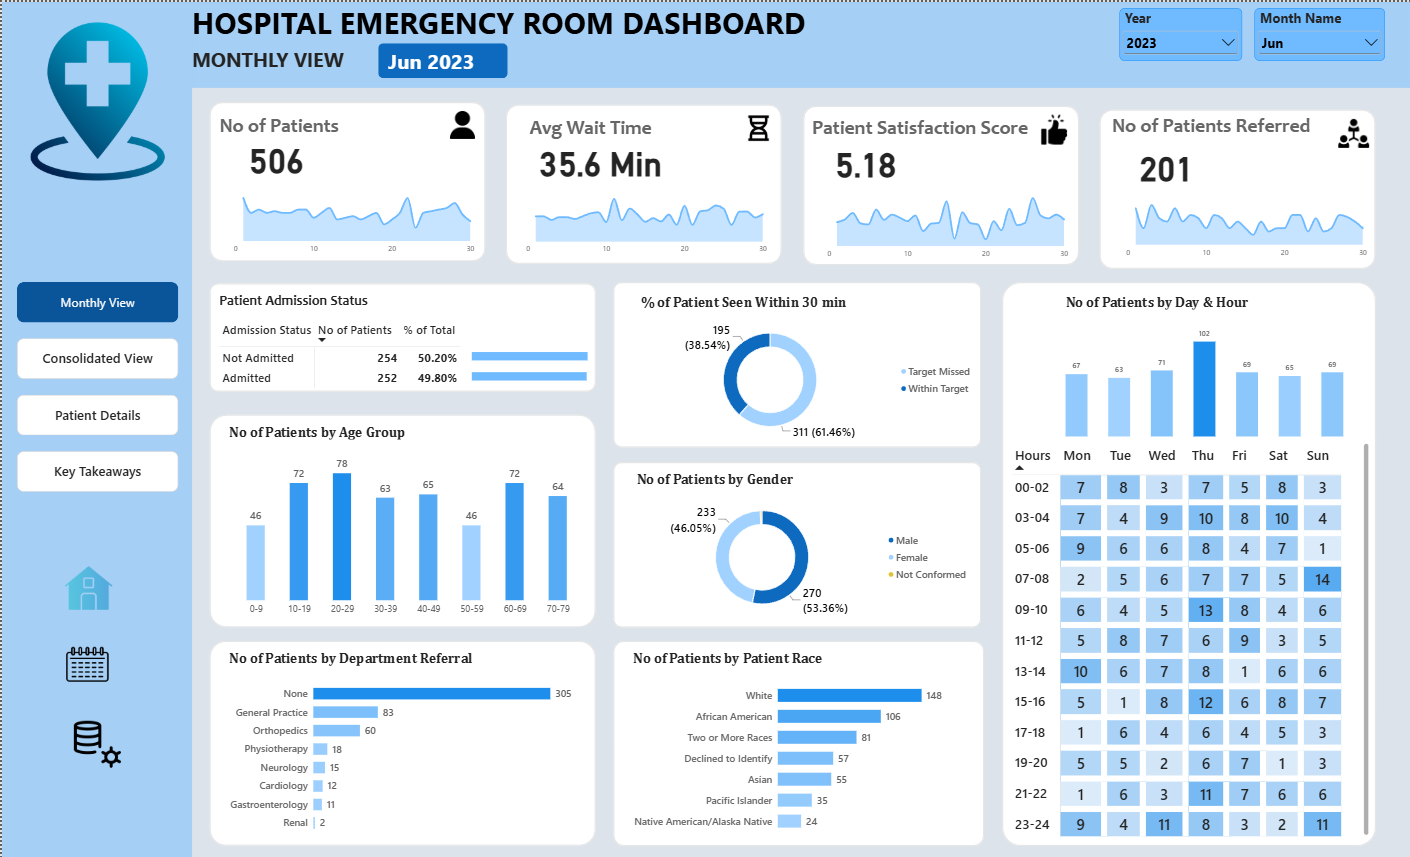

The dashboard page shown, as its layout file describes it:
{"tool":"powerbi","page":{"name":"Monthly View","canvas":[2300,1400],"ordinal":0},"visuals":[{"type":"shape","box":[0,0,310,1400.4],"z":0},{"type":"shape","box":[338.1,162.3,450,260],"z":1000},{"type":"shape","box":[310,0,1989.6,140],"z":2000},{"type":"textbox","box":[310,0,1031.1,66],"z":3000},{"type":"textbox","box":[310,70.4,288,50.6],"z":4000},{"type":"cardVisual","fields":{"Data":["Hospital ER_Data.No of Patients"]},"box":[385.8,195,183,127],"z":5000},{"type":"slicer","fields":{"Values":["Date Table.Year"]},"box":[1822.5,10.4,199.6,85.6],"z":6000},{"type":"slicer","fields":{"Values":["Date Table.Month Name"]},"box":[2042.9,10.4,212.6,85.6],"z":7000},{"type":"textbox","box":[355.6,181.9,288,50.6],"z":8000},{"type":"areaChart","fields":{"Category":["Date Table.Date.Variation.Date Hierarchy.Day"],"Y":["Hospital ER_Data.No of Patients"]},"box":[355.6,285.1,435,145],"z":9000},{"type":"image","box":[0,33.2,312.7,259.2],"z":10000},{"type":"cardVisual","fields":{"Data":["Min(Date Table.Month & Year)"]},"box":[613.6,67.9,211.8,57],"z":11000},{"type":"shape","box":[822.1,167.9,450,260],"z":12000},{"type":"cardVisual","fields":{"Data":["Hospital ER_Data.Avg Wait Time"]},"box":[859.6,200.1,290.2,127.5],"z":13000},{"type":"textbox","box":[860.6,184.6,288,50.6],"z":14000},{"type":"areaChart","fields":{"Category":["Date Table.Date.Variation.Date Hierarchy.Day"],"Y":["Avg(Hospital ER_Data.Patient Waittime)"]},"box":[830.7,285.1,435,145],"z":15000},{"type":"shape","box":[1306.1,170.1,450,260],"z":16000},{"type":"cardVisual","fields":{"Data":["Hospital ER_Data.Satisfaction Score"]},"box":[1340.3,202.2,191.8,127],"z":17000},{"type":"textbox","box":[1321.3,184.7,371.5,48.4],"z":18000},{"type":"areaChart","fields":{"Category":["Date Table.Date.Variation.Date Hierarchy.Day"],"Y":["Hospital ER_Data.Satisfaction Score"]},"box":[1322.1,293.2,435,145],"z":19000},{"type":"shape","box":[1790.2,174.5,450,260],"z":20000},{"type":"cardVisual","fields":{"Data":["Hospital ER_Data.No of Patients Referred"]},"box":[1837.9,207.1,183,127],"z":21000},{"type":"textbox","box":[1809.5,181.5,396.6,38.9],"z":22000},{"type":"areaChart","fields":{"Category":["Date Table.Date.Variation.Date Hierarchy.Day"],"Y":["Hospital ER_Data.No of Patients Referred"]},"box":[1810.8,290.5,435,145],"z":23000},{"type":"shape","box":[337.7,457.7,630,177],"z":24000},{"type":"pivotTable","title":"Patient Admission Status","fields":{"Rows":["Hospital ER_Data.Admission Status"],"Values":["Hospital ER_Data.No of Patients1","Hospital ER_Data.No of Patients"]},"box":[337.7,457.7,613.9,195.3],"z":25000},{"type":"barChart","fields":{"Category":["Hospital ER_Data.Admission Status"],"Y":["Hospital ER_Data.No of Patients"]},"box":[750,532.5,255,120],"z":26000},{"type":"shape","box":[337.5,672.5,630,347.5],"z":27000},{"type":"clusteredColumnChart","fields":{"Category":["Hospital ER_Data.Age Group"],"Y":["Hospital ER_Data.No of Patients"]},"box":[355,672.5,612.5,347.5],"z":28000},{"type":"shape","box":[337.5,1042.5,630,334.4],"z":29000},{"type":"clusteredBarChart","fields":{"Category":["Hospital ER_Data.Department Referral"],"Y":["Hospital ER_Data.No of Patients"]},"box":[355,1042.5,612.5,335],"z":30000},{"type":"image","box":[90.1,1042.1,98.9,76.9],"z":31000},{"type":"image","box":[91.7,1170.1,98.9,76.9],"z":32000},{"type":"image","box":[92.3,916.8,98.9,76.9],"z":34000},{"type":"shape","box":[996.8,457.1,600,270],"z":35000},{"type":"donutChart","title":"% of Patient Seen Within 30 min","fields":{"Category":["Hospital ER_Data.Waittime Status"],"Y":["Hospital ER_Data.No of Patients"]},"box":[1024.8,460.5,578.4,269.5],"z":36000},{"type":"shape","box":[996.8,750.8,600,270],"z":37000},{"type":"donutChart","title":"No of Patients by Gender","fields":{"Category":["Hospital ER_Data.Patient Gender"],"Y":["Hospital ER_Data.No of Patients"]},"box":[1019.6,751.1,578.4,269.5],"z":38000},{"type":"shape","box":[997.5,1042.5,605,335],"z":39000},{"type":"clusteredBarChart","fields":{"Category":["Hospital ER_Data.Patient Race"],"Y":["Hospital ER_Data.No of Patients"]},"box":[1012.5,1042.5,585,335],"z":40000},{"type":"shape","box":[1630,457.5,610,920],"z":41000},{"type":"pivotTable","fields":{"Columns":["Date Table.Day Name"],"Rows":["Hospital ER_Data.Waittime Interval"],"Values":["Hospital ER_Data.No of Patients"]},"box":[1630.7,705.1,614.4,671.4],"z":42000},{"type":"columnChart","title":"No of Patients by Day & Hour","fields":{"Category":["Date Table.Day Name"],"Y":["Hospital ER_Data.No of Patients"]},"box":[1718.8,461.5,487.4,264.4],"z":43000},{"type":"image","box":[727.7,175.9,46.2,50.6],"z":44000},{"type":"image","box":[1200.4,178.1,66,57.2],"z":45000},{"type":"image","box":[1692.8,178.1,48.4,61.6],"z":46000},{"type":"image","box":[2178.7,182.5,50.6,61.6],"z":47000},{"type":"pageNavigator","box":[24.2,457.3,263.8,342.5],"z":48000}]}

Visuals, with their boxes in screenshot pixels (x1, y1, x2, y2), scaled from the page's 2300x1400 canvas onto the 1410x857 screenshot:
shape: bbox=(0, 0, 190, 856)
shape: bbox=(207, 99, 483, 259)
shape: bbox=(190, 0, 1409, 86)
textbox: bbox=(190, 0, 822, 40)
textbox: bbox=(190, 43, 367, 74)
cardVisual - Hospital ER_Data.No of Patients: bbox=(237, 119, 349, 197)
slicer - Date Table.Year: bbox=(1117, 6, 1240, 59)
slicer - Date Table.Month Name: bbox=(1252, 6, 1383, 59)
textbox: bbox=(218, 111, 395, 142)
areaChart - Date Table.Date.Variation.Date Hierarchy.Day x Hospital ER_Data.No of Patients: bbox=(218, 175, 485, 263)
image: bbox=(0, 20, 192, 179)
cardVisual - Min(Date Table.Month & Year): bbox=(376, 42, 506, 76)
shape: bbox=(504, 103, 780, 262)
cardVisual - Hospital ER_Data.Avg Wait Time: bbox=(527, 122, 705, 201)
textbox: bbox=(528, 113, 704, 144)
areaChart - Date Table.Date.Variation.Date Hierarchy.Day x Avg(Hospital ER_Data.Patient Waittime): bbox=(509, 175, 776, 263)
shape: bbox=(801, 104, 1077, 263)
cardVisual - Hospital ER_Data.Satisfaction Score: bbox=(822, 124, 939, 202)
textbox: bbox=(810, 113, 1038, 143)
areaChart - Date Table.Date.Variation.Date Hierarchy.Day x Hospital ER_Data.Satisfaction Score: bbox=(811, 179, 1077, 268)
shape: bbox=(1097, 107, 1373, 266)
cardVisual - Hospital ER_Data.No of Patients Referred: bbox=(1127, 127, 1239, 205)
textbox: bbox=(1109, 111, 1352, 135)
areaChart - Date Table.Date.Variation.Date Hierarchy.Day x Hospital ER_Data.No of Patients Referred: bbox=(1110, 178, 1377, 267)
shape: bbox=(207, 280, 593, 389)
"Patient Admission Status" pivotTable: bbox=(207, 280, 583, 400)
barChart - Hospital ER_Data.Admission Status x Hospital ER_Data.No of Patients: bbox=(460, 326, 616, 399)
shape: bbox=(207, 412, 593, 624)
clusteredColumnChart - Hospital ER_Data.Age Group x Hospital ER_Data.No of Patients: bbox=(218, 412, 593, 624)
shape: bbox=(207, 638, 593, 843)
clusteredBarChart - Hospital ER_Data.Department Referral x Hospital ER_Data.No of Patients: bbox=(218, 638, 593, 843)
image: bbox=(55, 638, 116, 685)
image: bbox=(56, 716, 117, 763)
image: bbox=(57, 561, 117, 608)
shape: bbox=(611, 280, 979, 445)
"% of Patient Seen Within 30 min" donutChart: bbox=(628, 282, 983, 447)
shape: bbox=(611, 460, 979, 625)
"No of Patients by Gender" donutChart: bbox=(625, 460, 980, 625)
shape: bbox=(612, 638, 982, 843)
clusteredBarChart - Hospital ER_Data.Patient Race x Hospital ER_Data.No of Patients: bbox=(621, 638, 979, 843)
shape: bbox=(999, 280, 1373, 843)
pivotTable - Date Table.Day Name x Hospital ER_Data.Waittime Interval: bbox=(1000, 432, 1376, 843)
"No of Patients by Day & Hour" columnChart: bbox=(1054, 283, 1352, 444)
image: bbox=(446, 108, 474, 139)
image: bbox=(736, 109, 776, 144)
image: bbox=(1038, 109, 1067, 147)
image: bbox=(1336, 112, 1367, 149)
pageNavigator: bbox=(15, 280, 177, 490)
